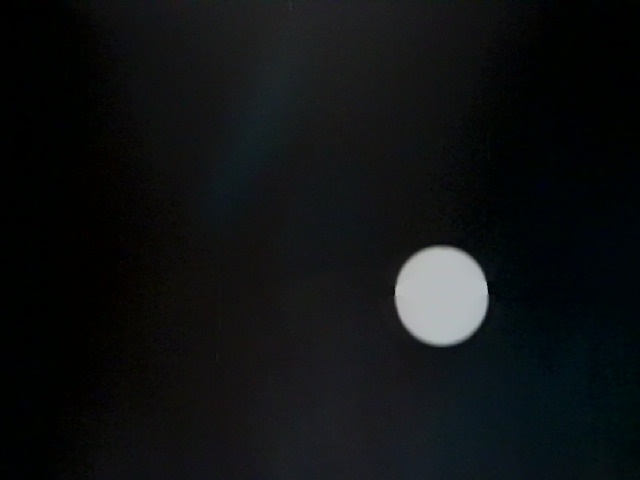QTLJ: (470, 166, 640, 473)
